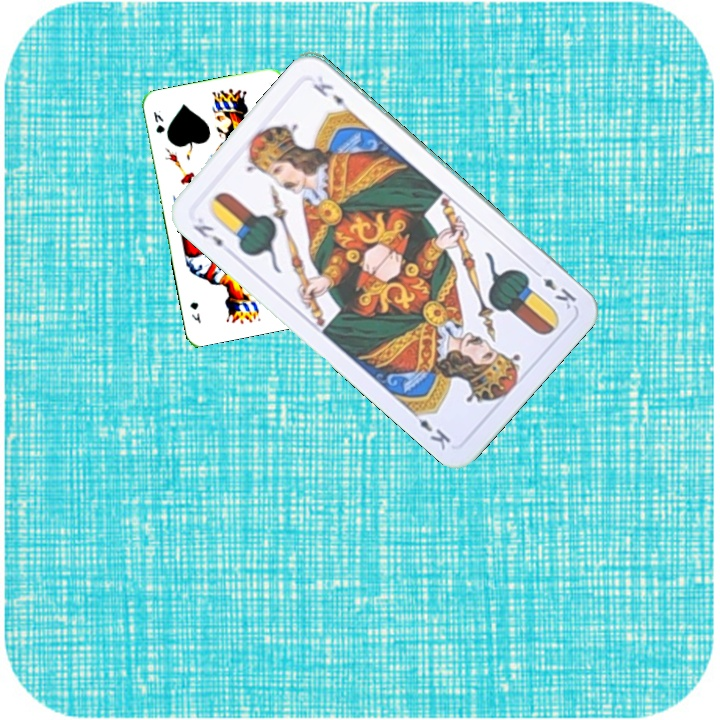EK: (528, 264, 579, 312), (189, 213, 226, 250)
GK: (149, 108, 167, 136)
